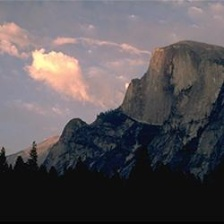neutral: (2, 2, 224, 216)
